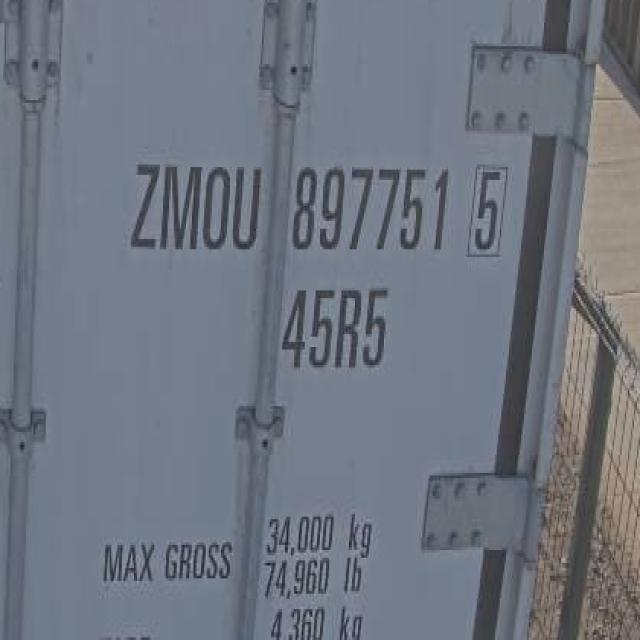dv: (463, 160, 512, 261)
owner: (126, 151, 264, 261)
serial: (287, 152, 455, 266)
size: (280, 281, 397, 374)
